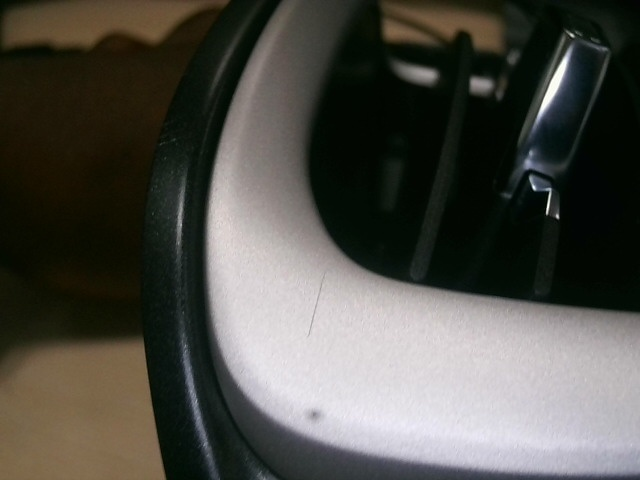NG: (304, 268, 337, 342), (153, 122, 184, 176)
